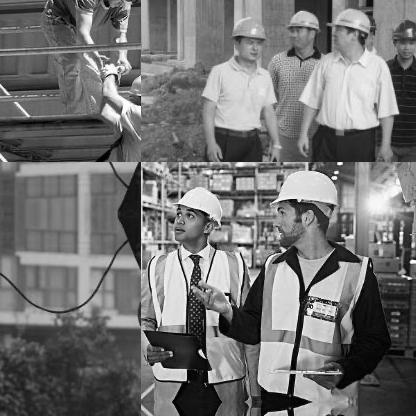Helmet: (269, 162, 340, 248), (168, 177, 224, 247), (326, 7, 370, 58), (226, 13, 266, 66), (285, 6, 321, 52), (390, 15, 415, 64), (124, 67, 140, 118)
